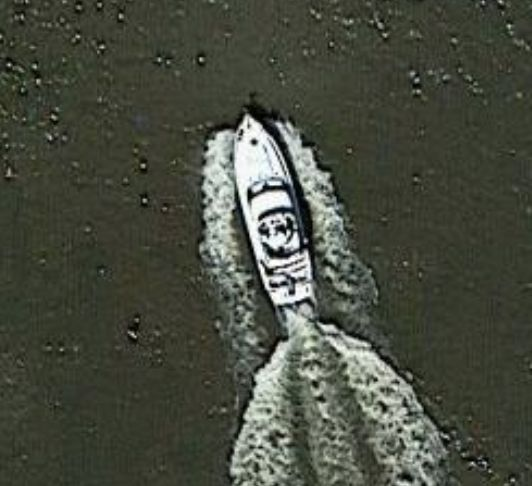boat: (226, 108, 320, 311)
